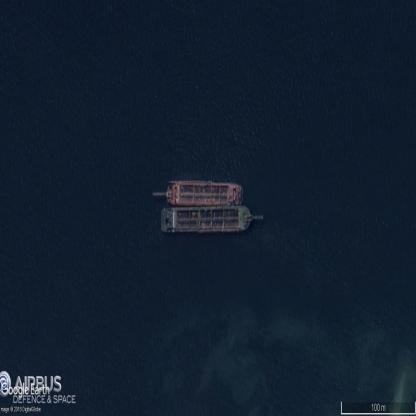ship: (161, 207, 252, 229), (167, 182, 242, 205)
